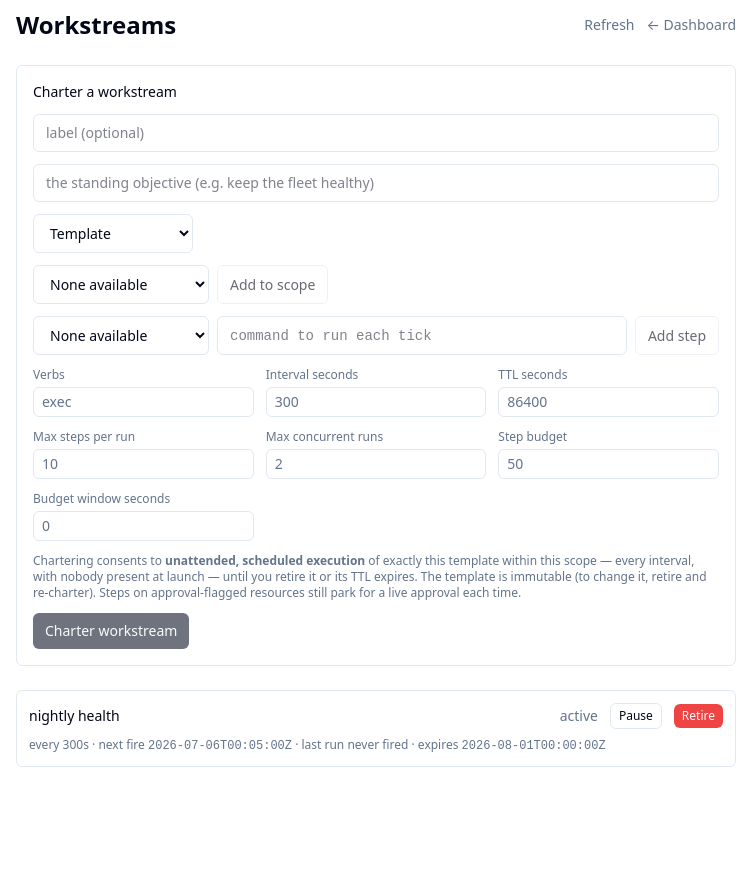
Test case: Workstreams route › shows the FE-29 freshness affordance and polls the panel's targeted reads (never loadAll) on the fixed 10s interval
The width and height of the screenshot is (753, 885).
Click the button "nightly health" at point(74, 716), box [29,706,120,726]
Wait 10000 ms
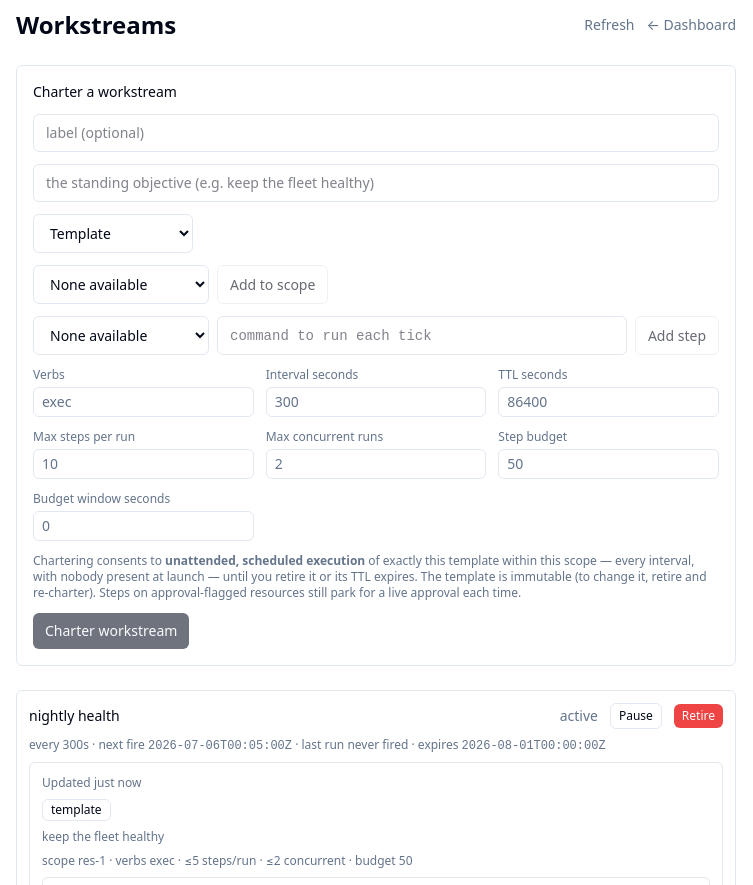
Now the text "Updated just now" is shown, box [42,774,142,791]
